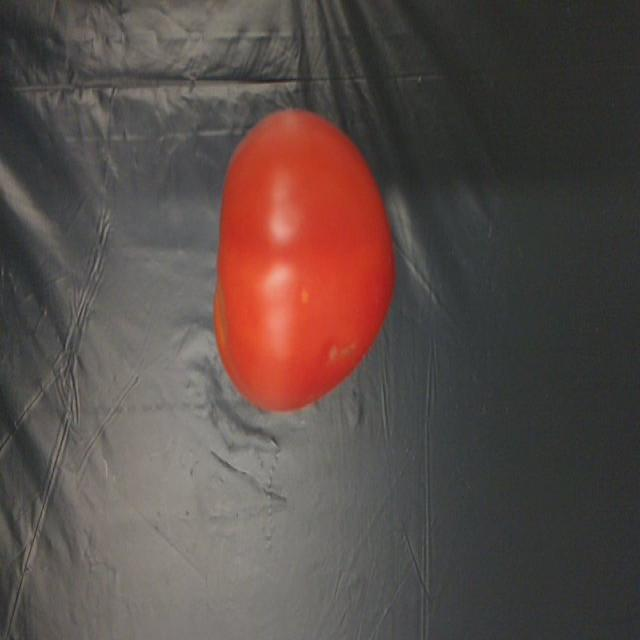kirmizi: (218, 105, 388, 411)
